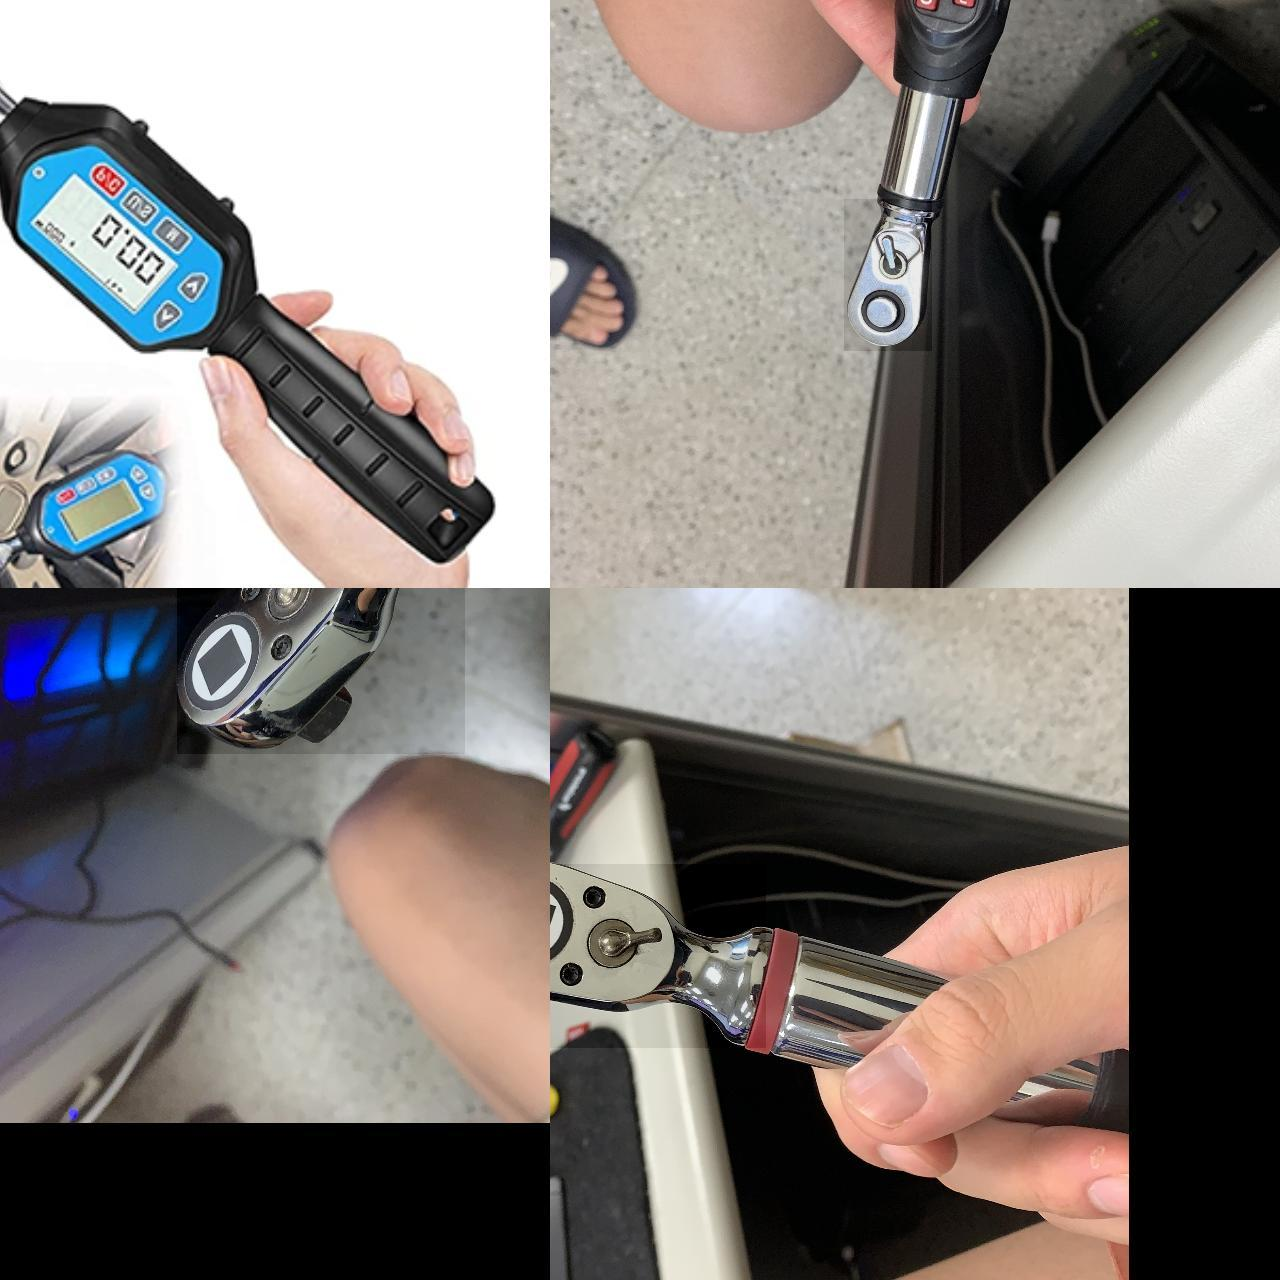Tool: (177, 588, 465, 753), (550, 863, 765, 1047), (844, 198, 932, 350)
